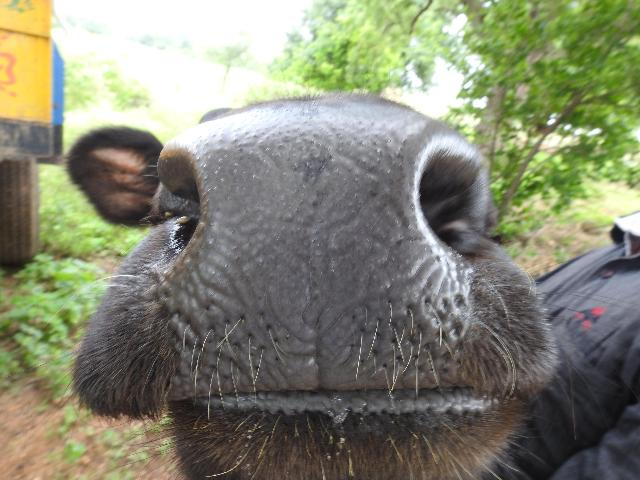Muzzle: (182, 132, 446, 386)
